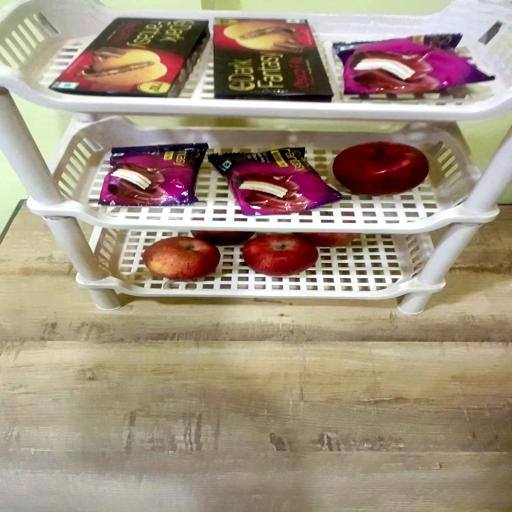Apple: (332, 140, 429, 194), (141, 238, 218, 282), (244, 235, 318, 278), (192, 230, 253, 245), (297, 232, 359, 246)
Choco Fills: (48, 18, 208, 98), (215, 16, 334, 100)
Choco Pie: (333, 33, 493, 96), (211, 150, 344, 218), (98, 145, 207, 209)
